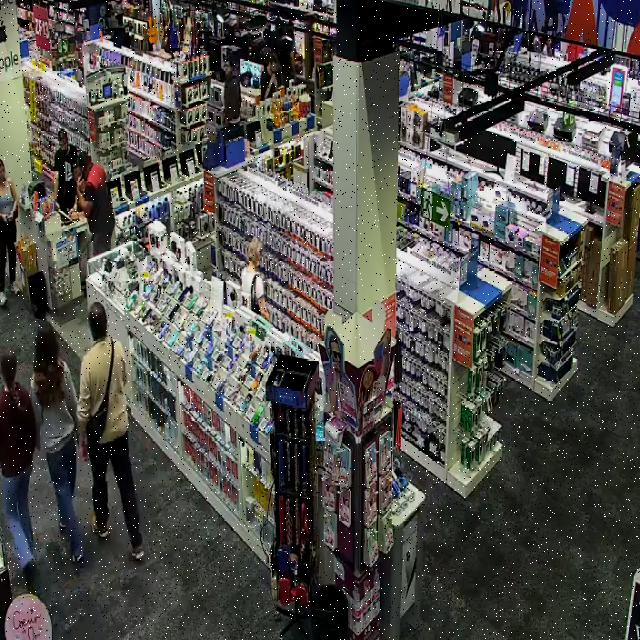bags: (86, 339, 114, 441), (251, 274, 261, 314)
person: (77, 302, 143, 559), (30, 326, 83, 561), (0, 351, 35, 588), (77, 152, 115, 253), (242, 237, 269, 320)
